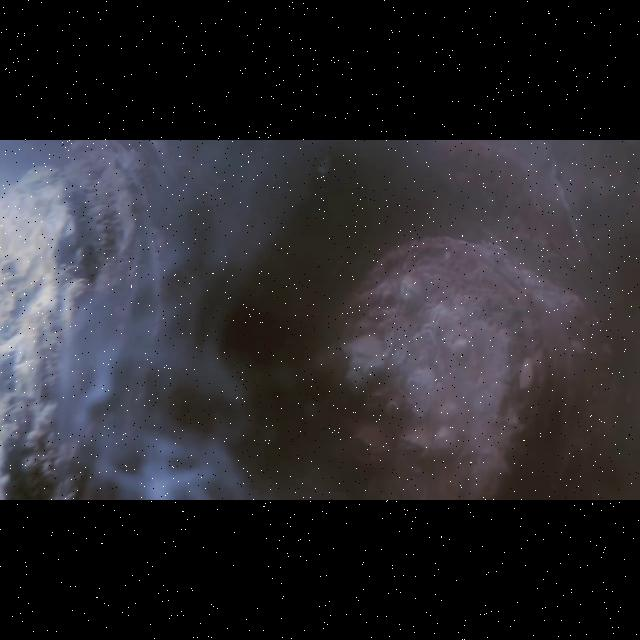Oyster-Closed: (304, 234, 625, 497), (4, 147, 212, 497)
